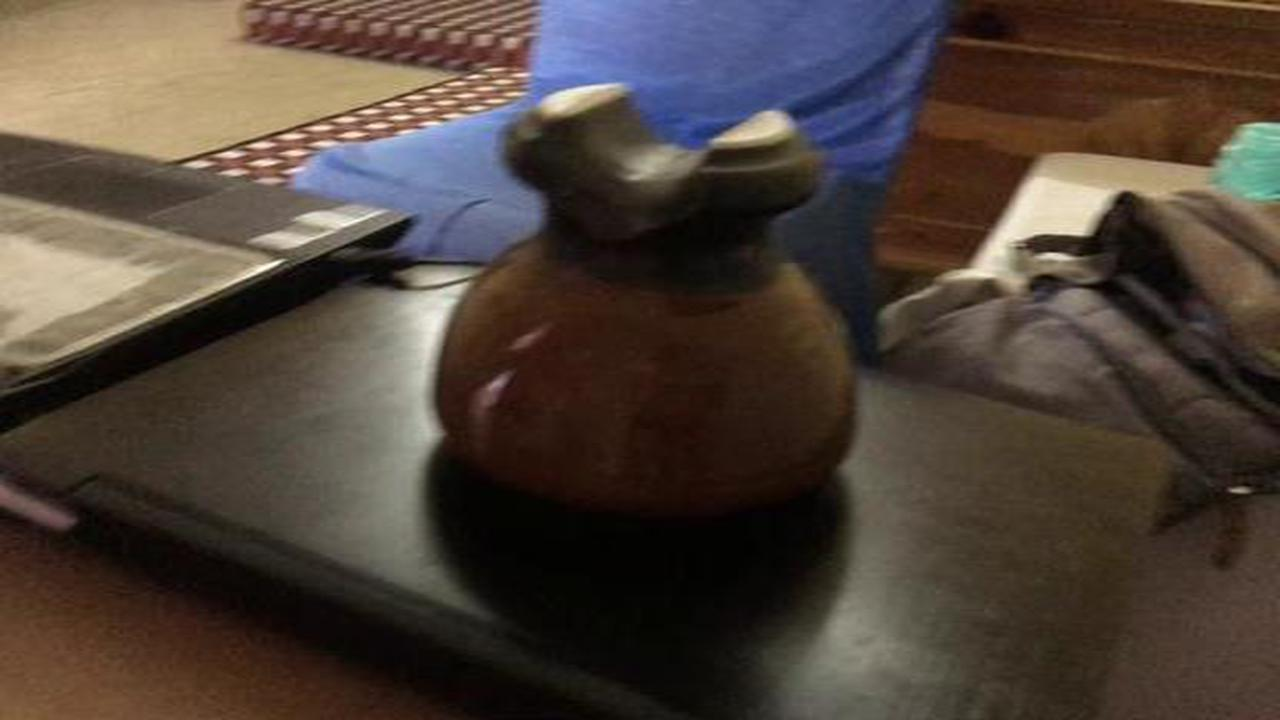insulator_pin: (422, 64, 884, 551)
